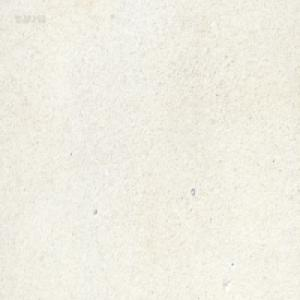Washer: (190, 186, 195, 195)
